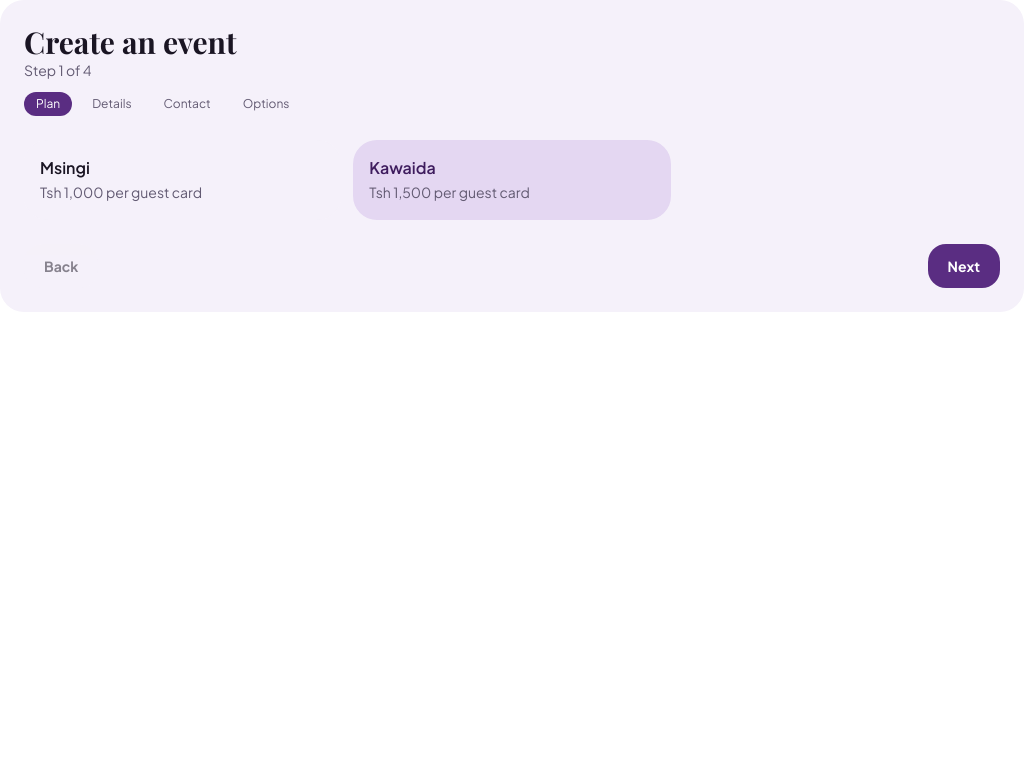
EventWizard › blocks the details step until required fields are valid
Click the button "Next".
click(964, 266)  # box [928,244,1000,288]
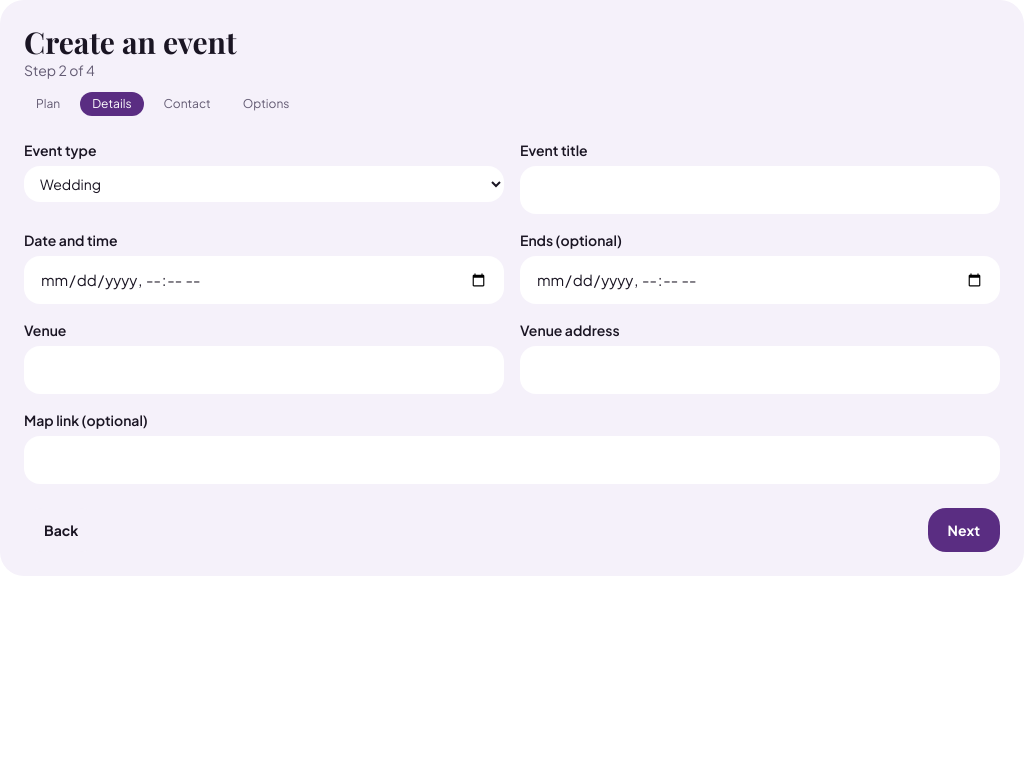
Now the text "Step 2 of 4" is shown, box [24,61,95,79]
Click the button "Next".
click(964, 530)  # box [928,508,1000,552]
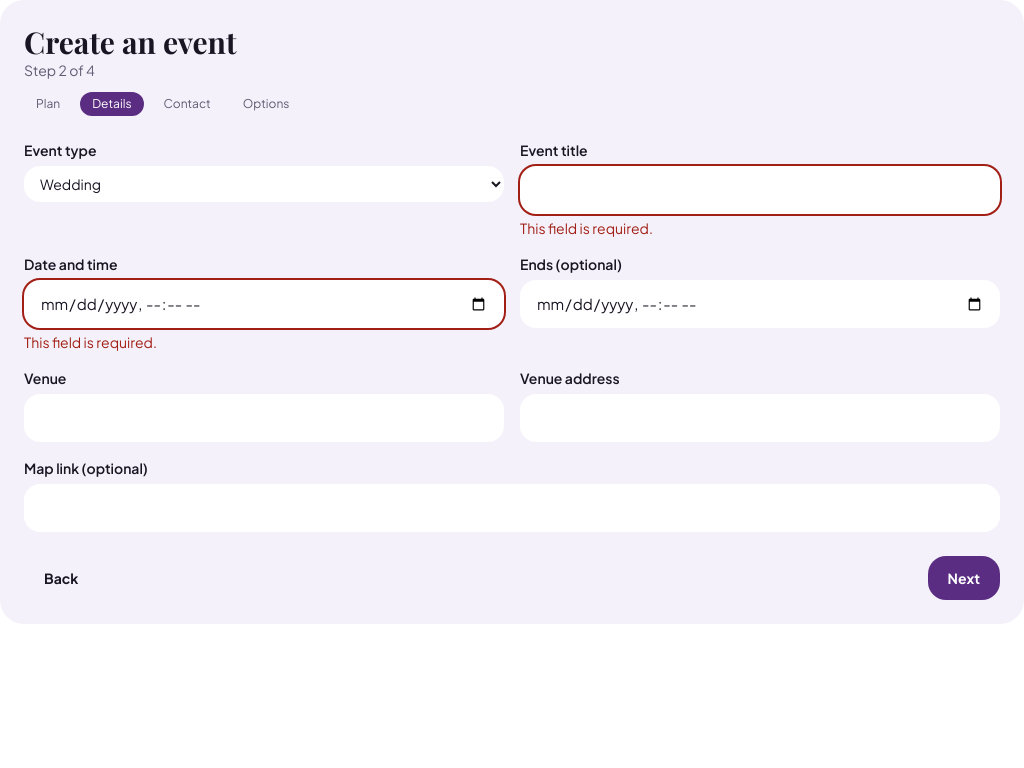
Now the text "Step 2 of 4" is shown, box [24,61,95,79]
Now the text "This field is required." is shown 2 times, box [520,219,653,237]; [24,333,157,351]
